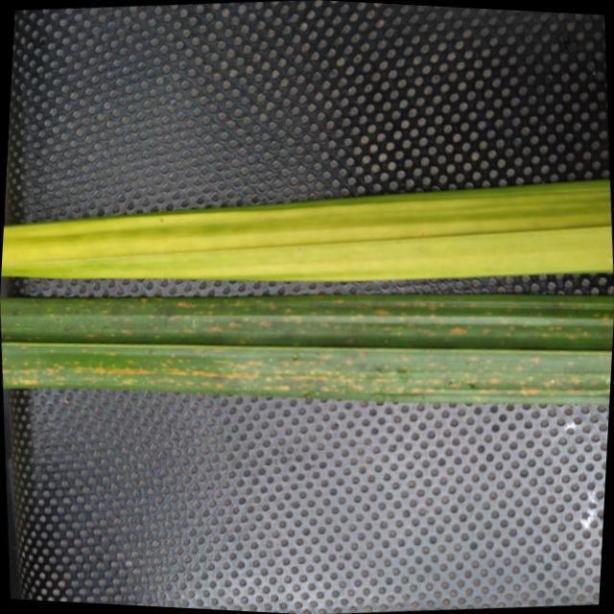nitrogen: (5, 176, 614, 281)
